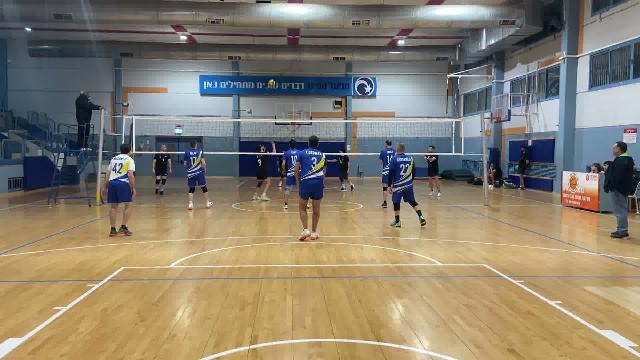ball: (269, 77, 276, 86)
